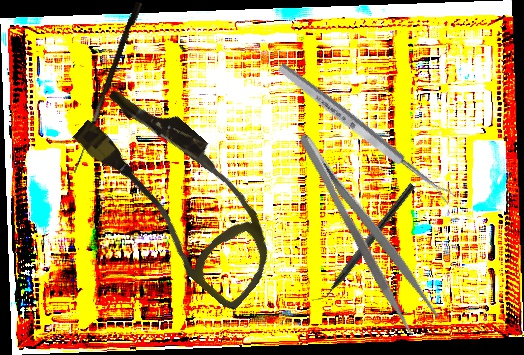Cannula: (53, 73, 307, 314)
Chopper: (309, 176, 416, 310)
Dressing Forceps: (292, 119, 443, 339)
Hook Surgical: (73, 0, 143, 176)
Surgical Spoon: (275, 60, 456, 206)
